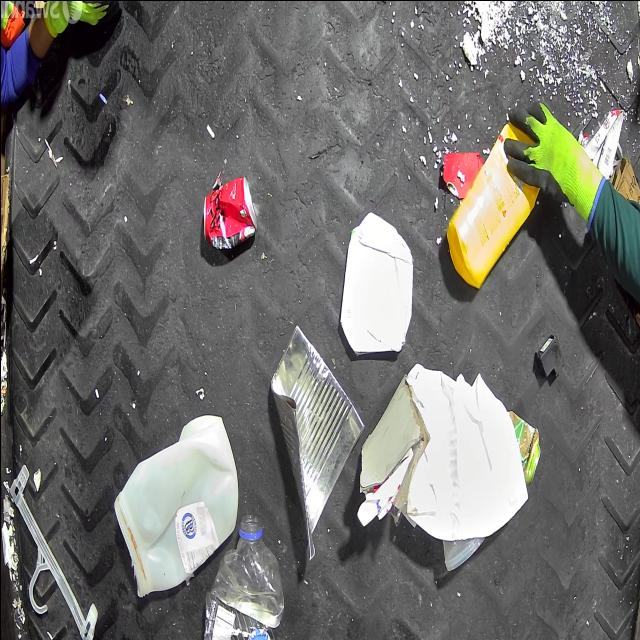can: (202, 174, 256, 248)
milk_jug: (113, 413, 238, 598)
non_white_jug: (445, 122, 537, 288)
plastic_bottle: (201, 514, 283, 640)
